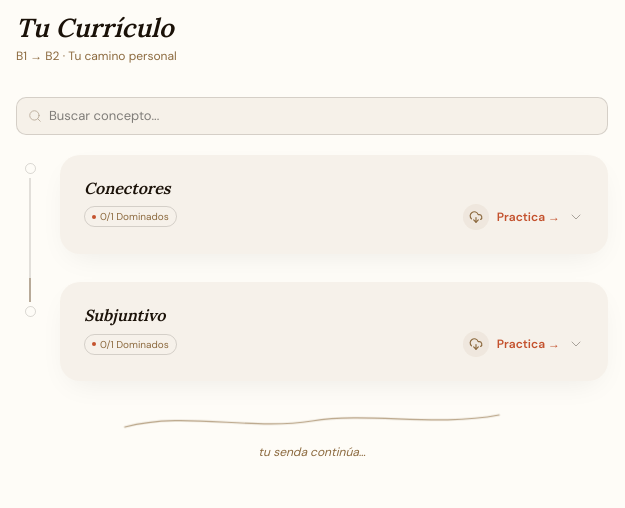
CurriculumClient › renders concept titles in senda-heading font without LevelChip in rows
Click the text "Conectores" at (127, 188), box x1=84 y1=179 x2=170 y2=198
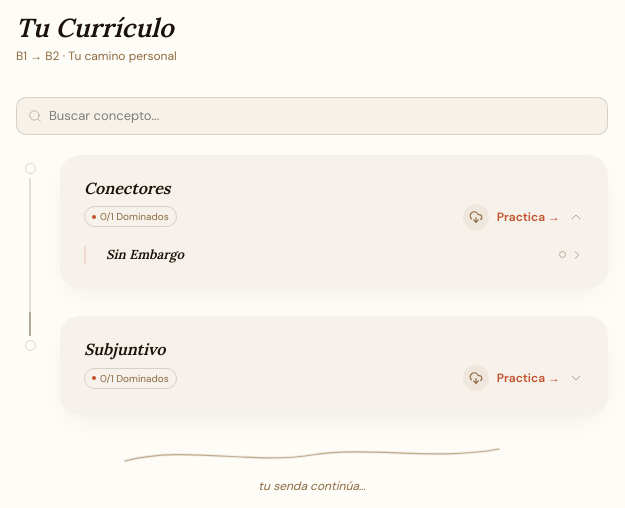
Now the text "Sin Embargo" is shown, box x1=106 y1=246 x2=184 y2=263
